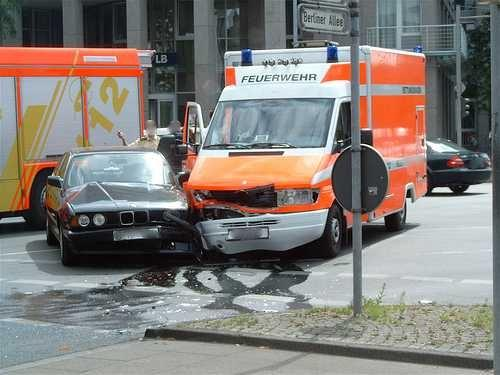car: (179, 42, 428, 259), (0, 45, 156, 229)
